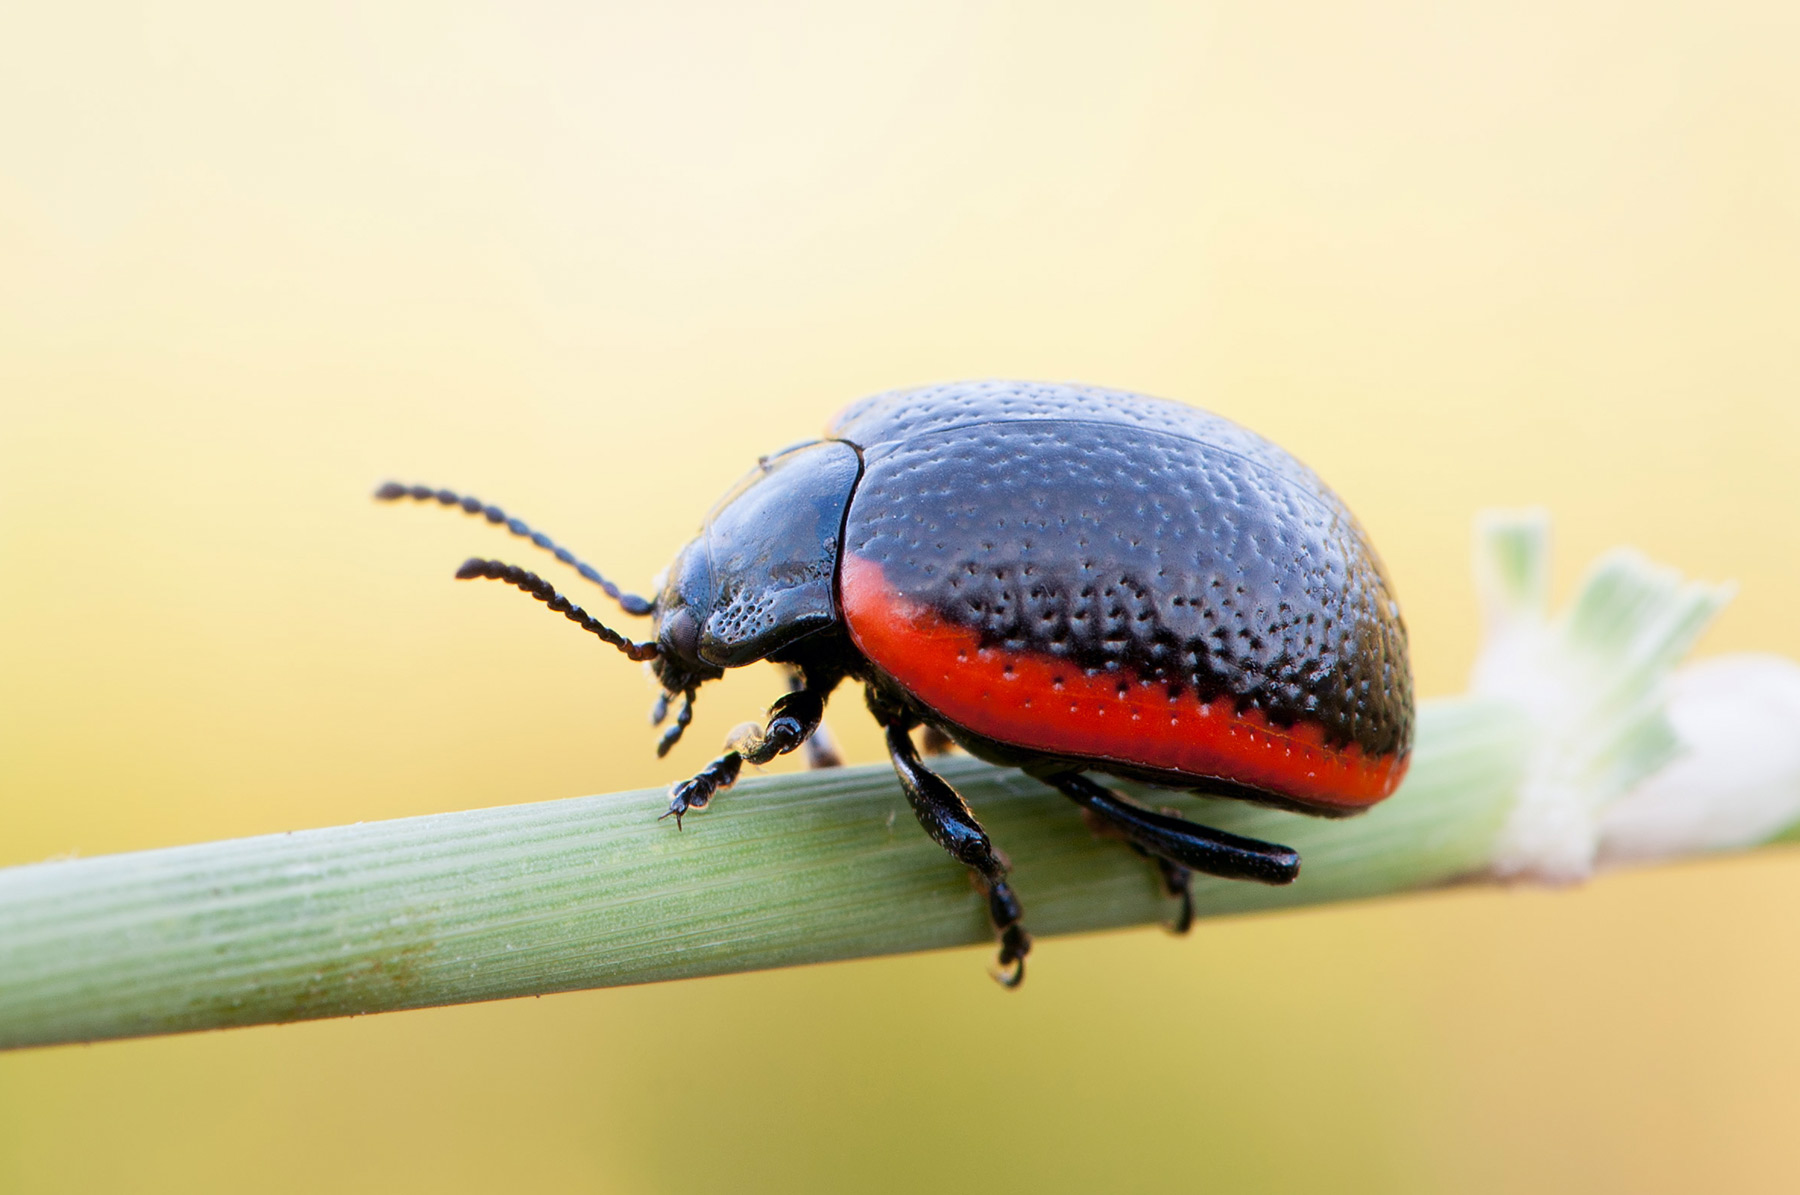Chrysolina_gypsophila: (367, 356, 1423, 1002)
